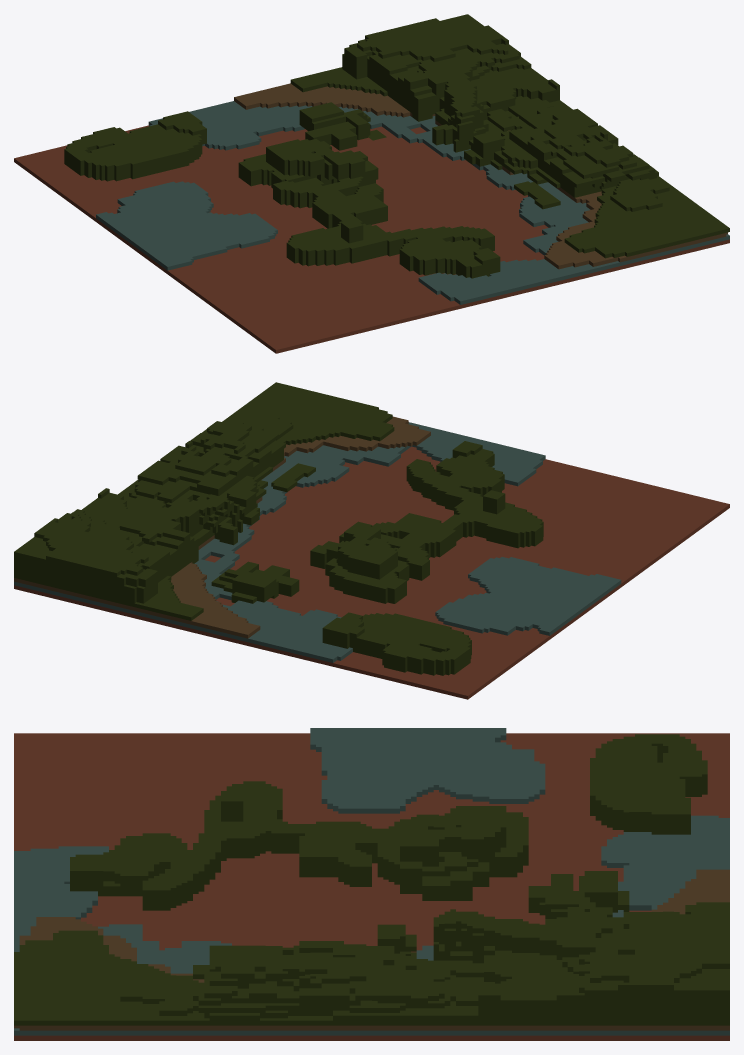
File: coastline.obj
3 renders of one model, top to bottom at view 1: azimuth 30°, elevation 25°; view 2: azimuth 150°, elevation 25°; view 3: azimuth 270°, elevation 25°, orthographic. The views are drawn at different scales.
Size of the model in its own units: 12.8 by 1.1 by 12.8.
Materials: 1 (1 with a texture image).
